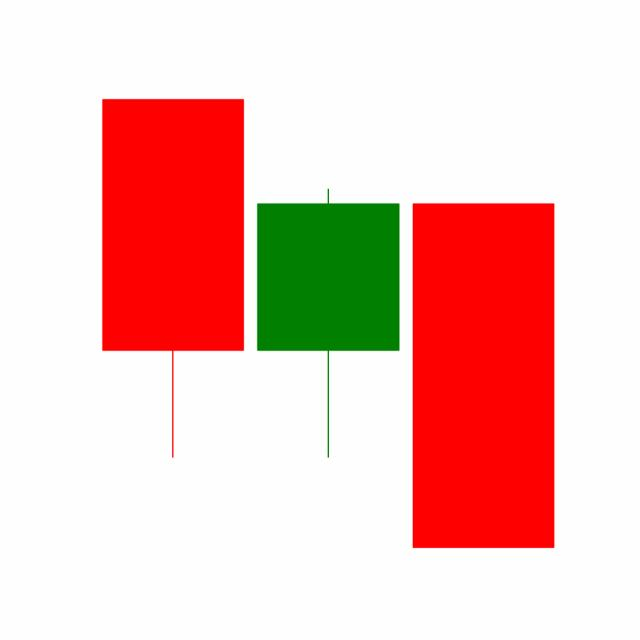Marubozu: (405, 199, 561, 550)
